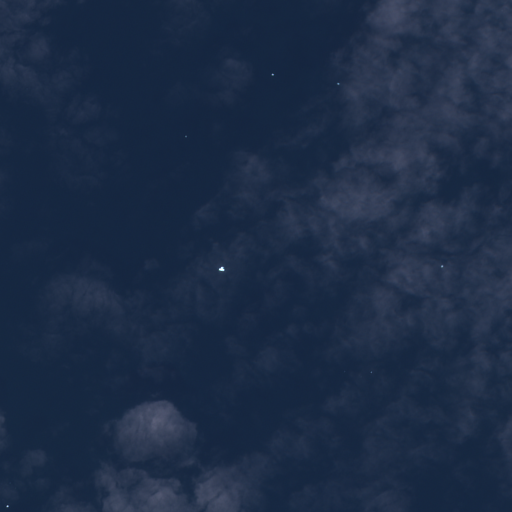Iceberg: (218, 266, 224, 271), (271, 73, 273, 75), (337, 82, 339, 84), (441, 265, 443, 267), (6, 505, 8, 507), (185, 135, 186, 137), (370, 371, 371, 372)
